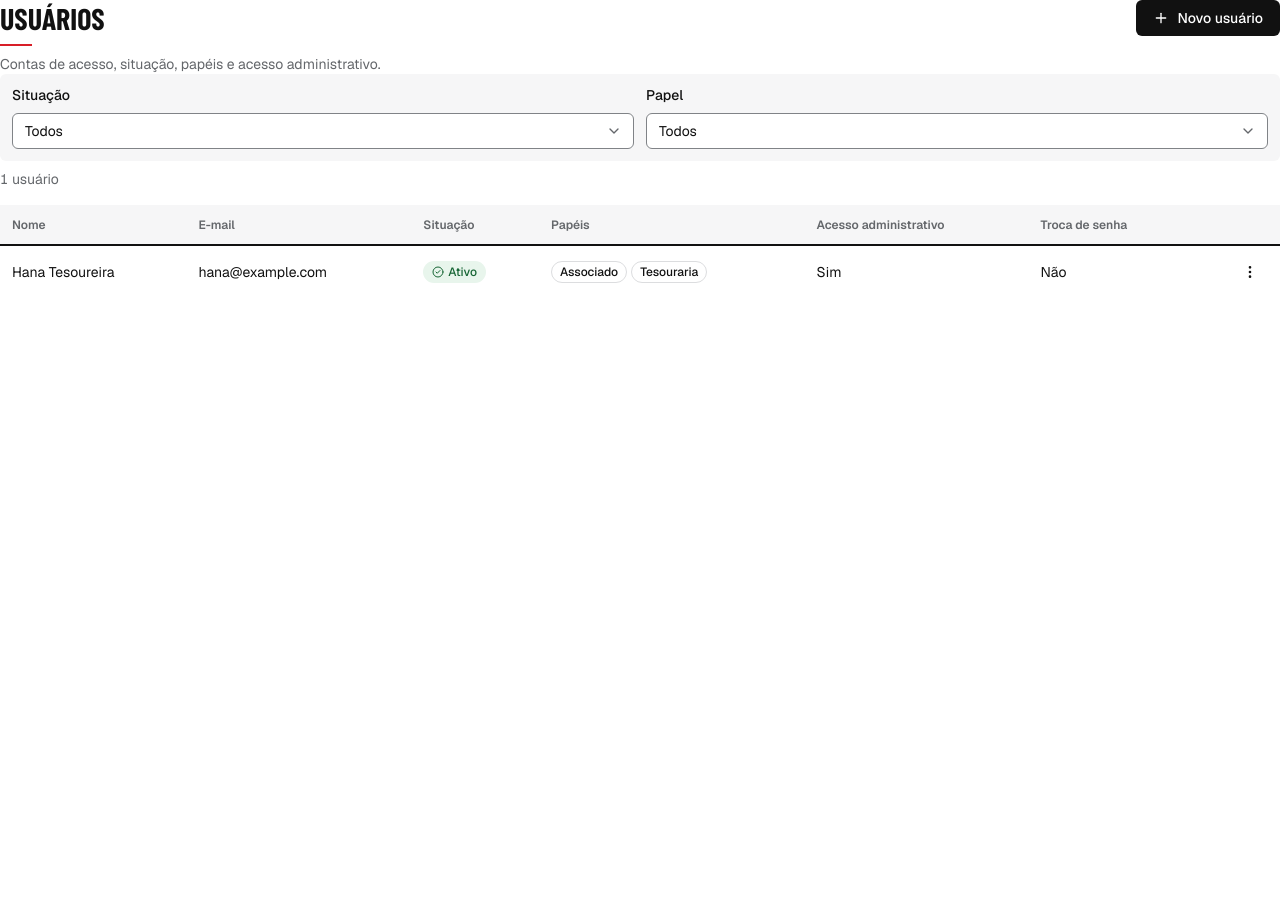
Test: confirmações (DSP-03 AC2, AC3 e AC5) › Retirar acesso administrativo Hana Tesoureira: nomeia a pessoa, diz a consequência e o botão repete o verbo
Check: the text "hana@example.com" is shown, box top-left (186, 245), bottom-right (411, 298)
Step 1. Click the button named "Ações de Hana Tesoureira" → (1250, 272), box top-left (1232, 254), bottom-right (1268, 290)
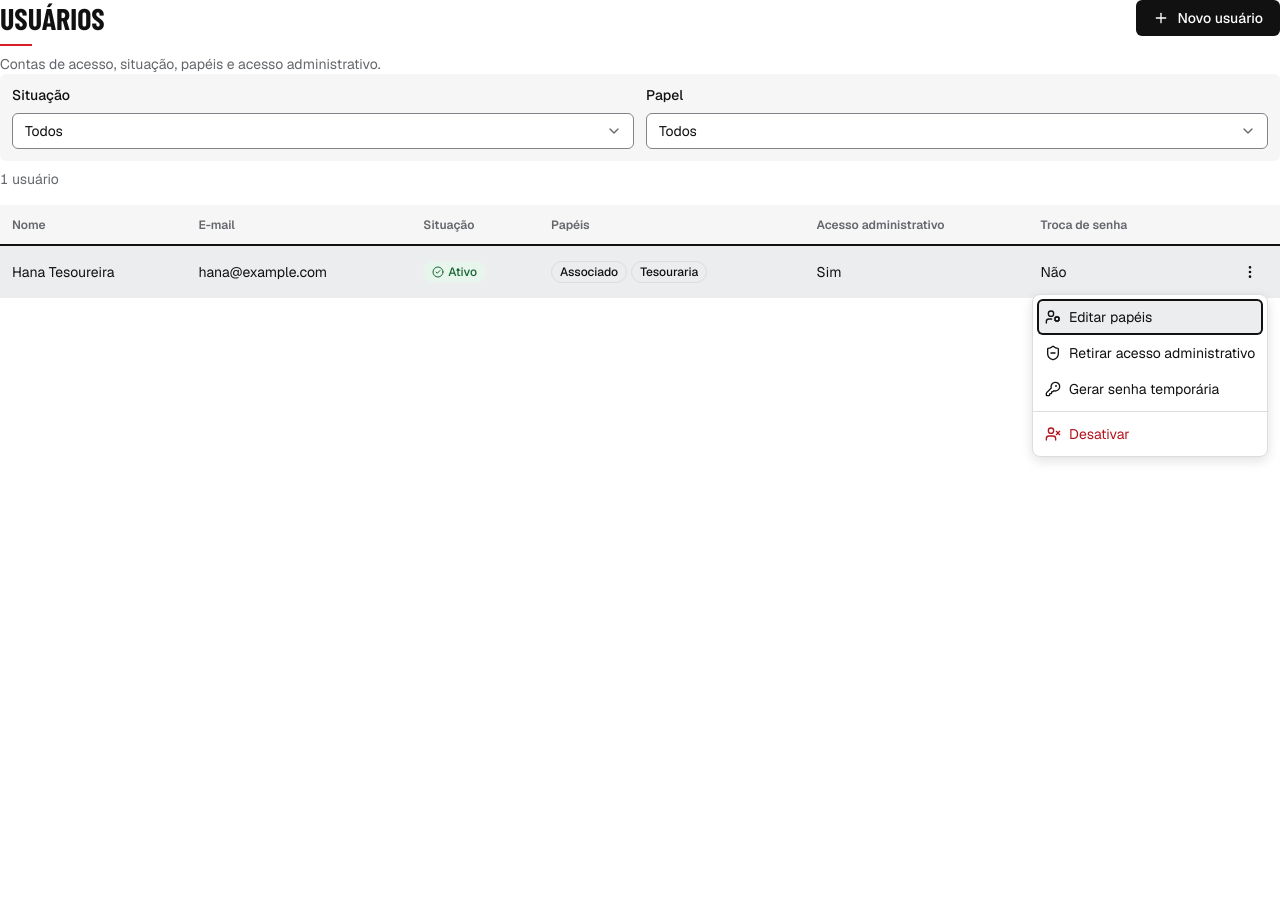
Check: the menu is shown, box top-left (1032, 294), bottom-right (1268, 457)
Step 2. Click the menu item "Retirar acesso administrativo" → (1150, 353), box top-left (1045, 344), bottom-right (1255, 362)
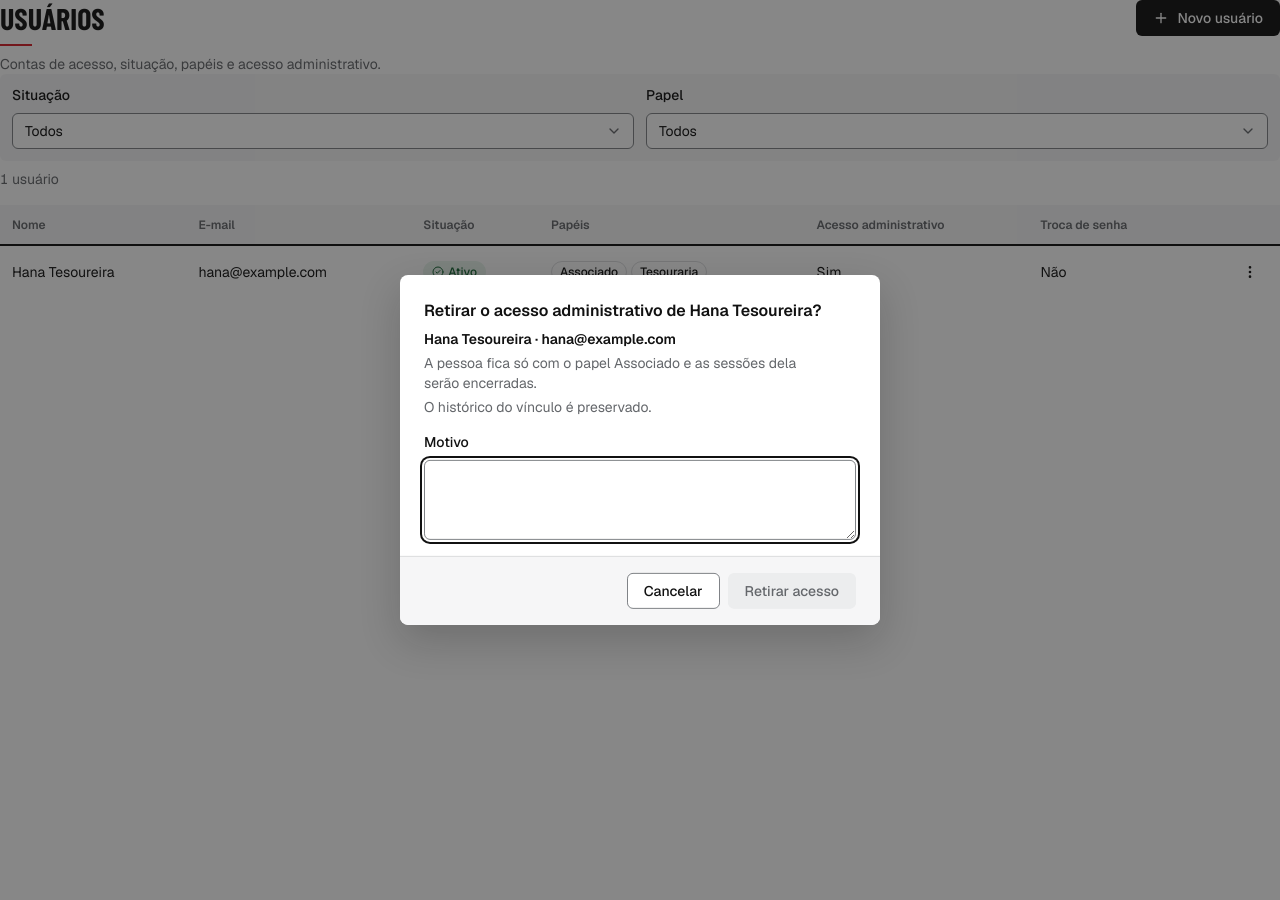
Check: the text "A pessoa fica só com o papel Associado e as sessões dela serão encerradas." is shown, box top-left (424, 353), bottom-right (856, 393)
